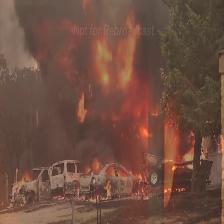fire: (36, 10, 195, 213)
smoke: (0, 0, 176, 84)
